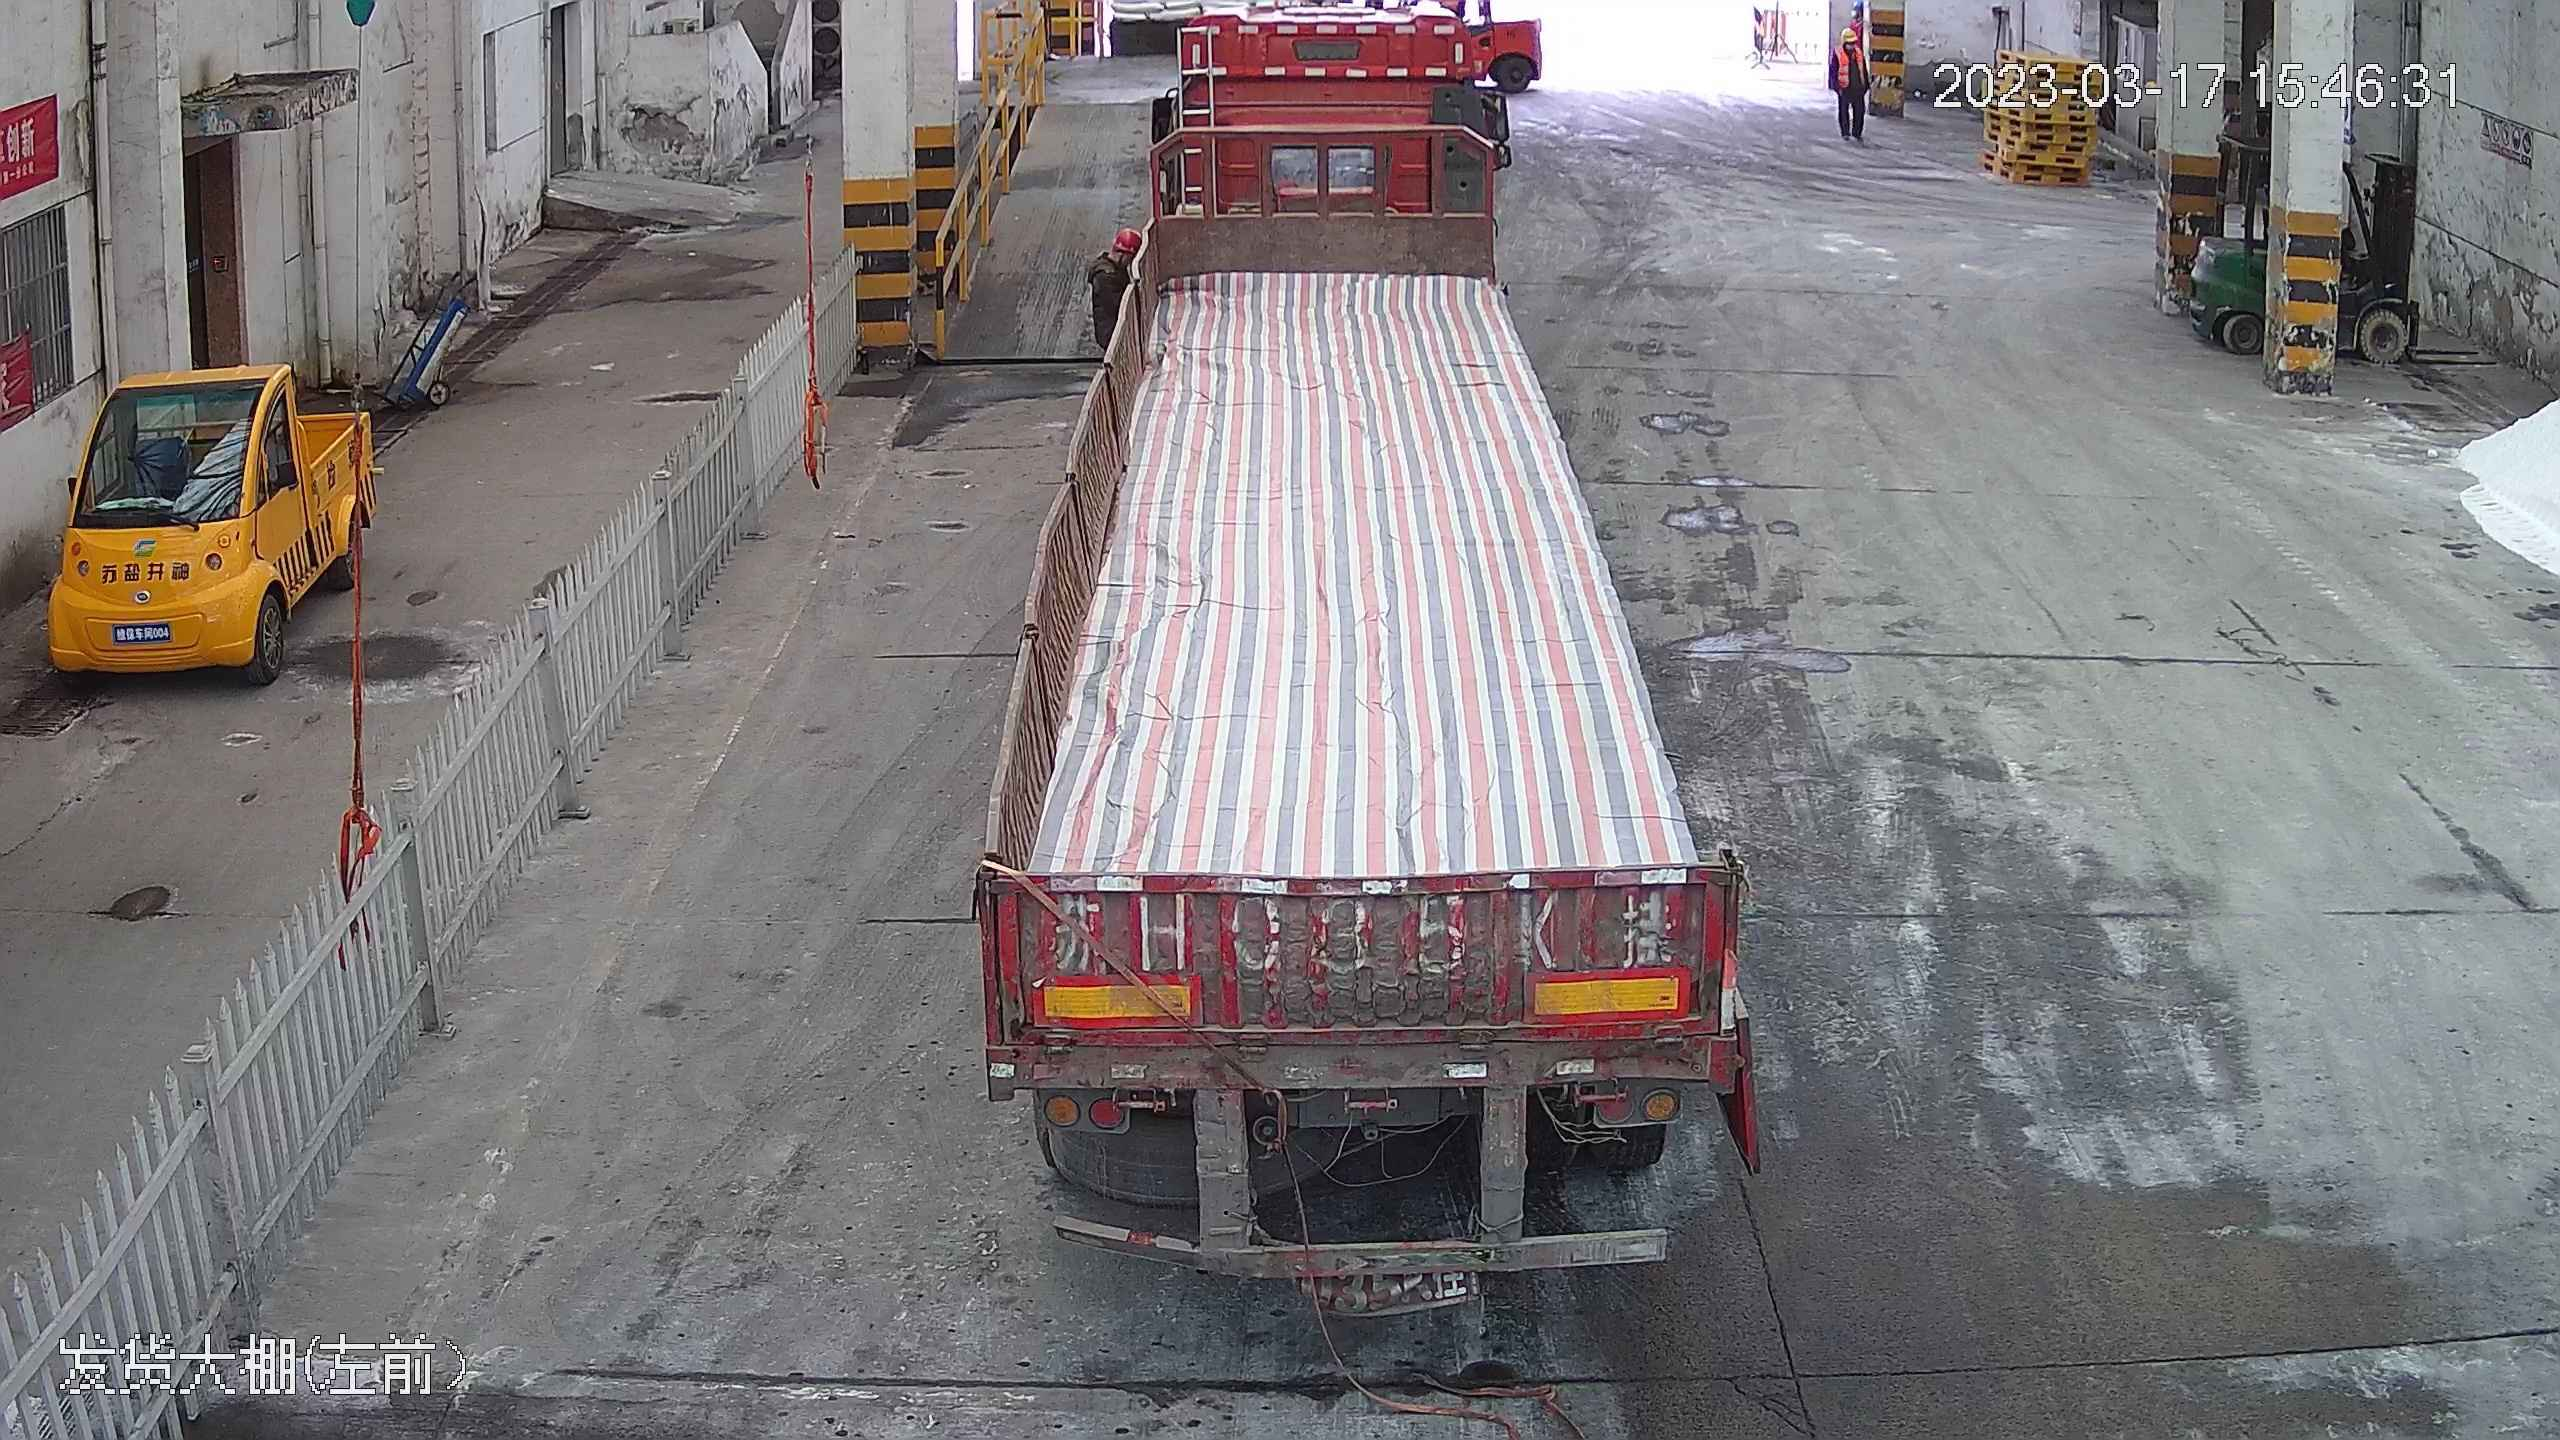head: (1833, 26, 1864, 62)
helmet: (1840, 26, 1857, 43)
people: (1824, 24, 1868, 142)
truck: (946, 1, 1767, 1263)
